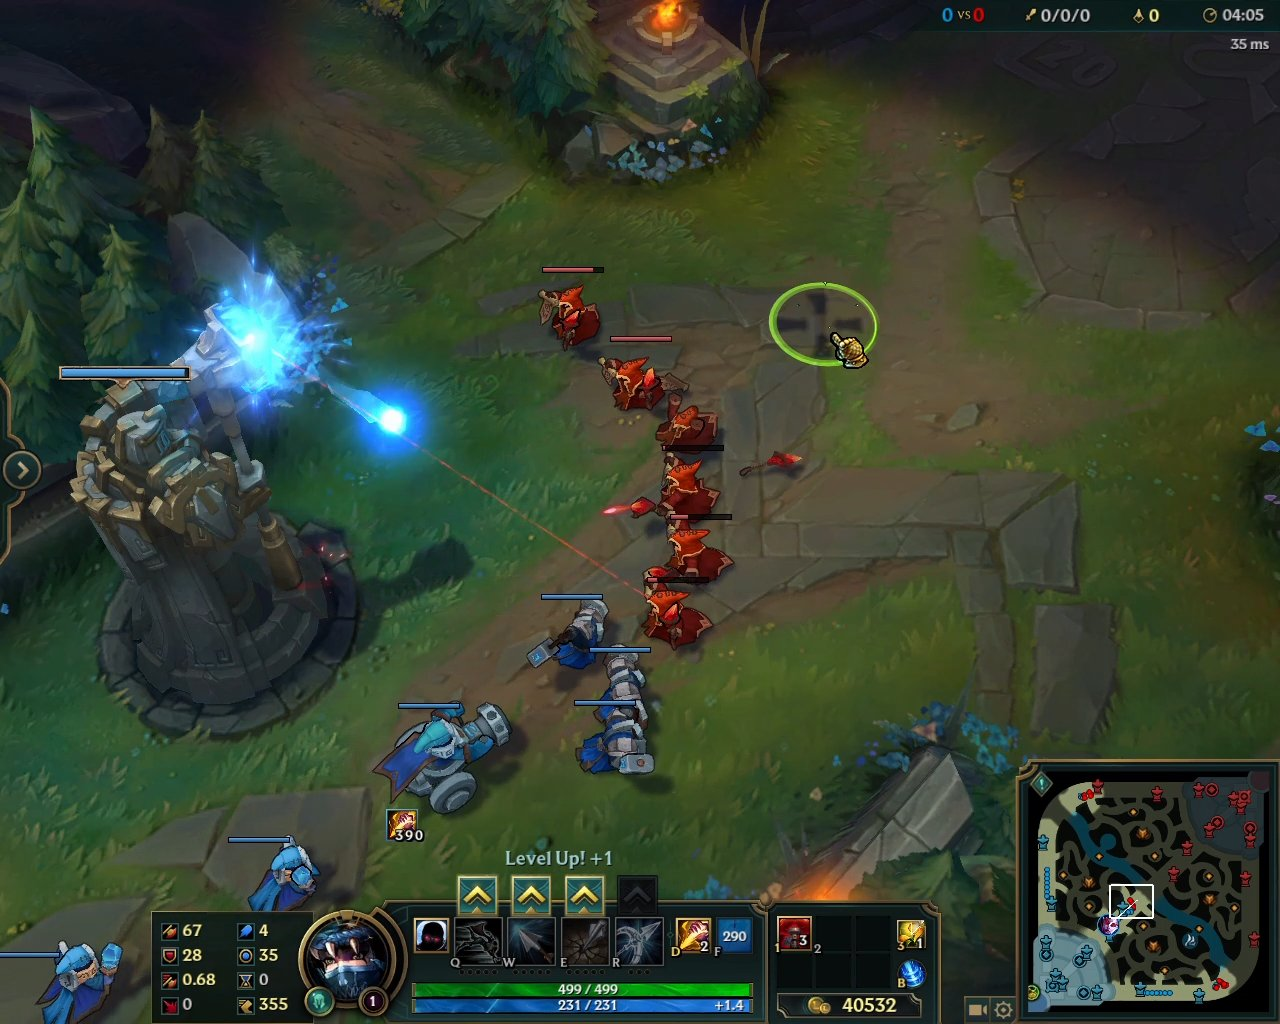EnemyMinion: (631, 444, 724, 523), (647, 513, 734, 587), (534, 266, 605, 353), (597, 334, 671, 417), (638, 577, 715, 653)
